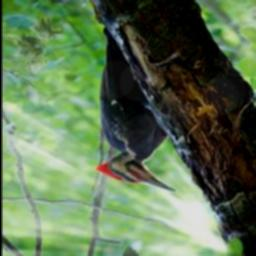Woodpecker: (94, 26, 179, 194)
